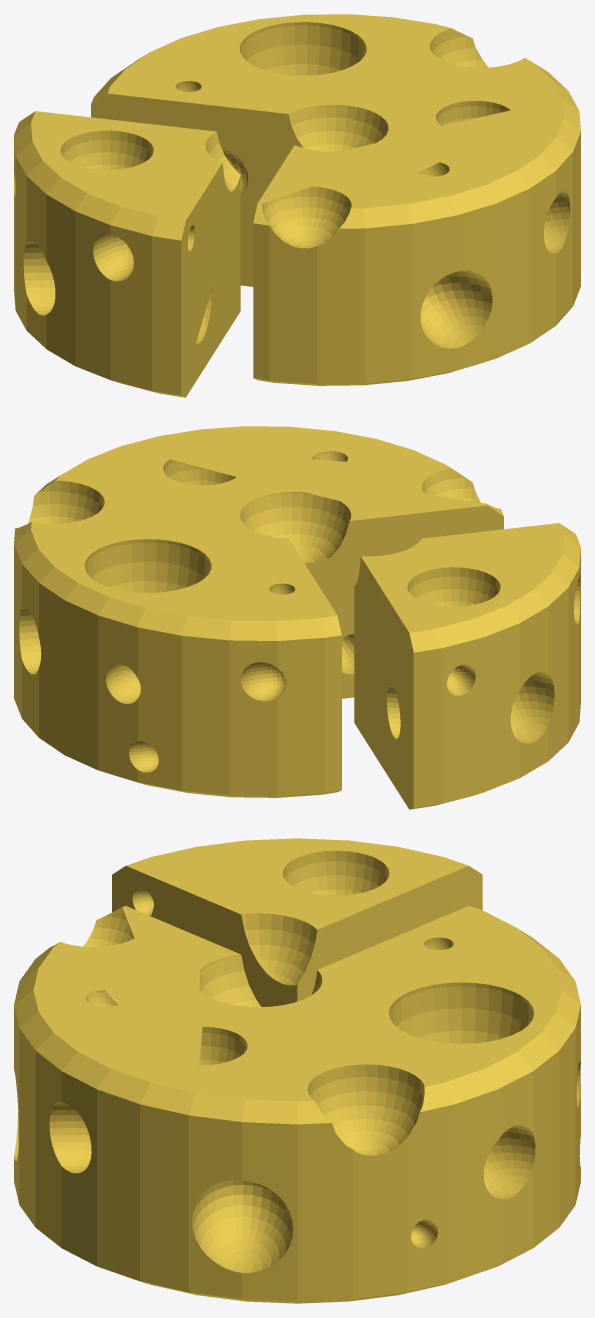
File: cheese.fbx
3 renders of one model, top to bottom at view 1: azimuth 30°, elevation 25°; view 2: azimuth 150°, elevation 25°; view 3: azimuth 270°, elevation 25°, orthographic. The views are drawn at different scales.
Parts seen in each view (by area): view 1: Cylinder.000, Cylinder.001; view 2: Cylinder.000, Cylinder.001; view 3: Cylinder.000, Cylinder.001.
Part boxes in pixels (bbox=[...]): Cylinder.000: bbox=[91, 14, 580, 385]; Cylinder.001: bbox=[14, 111, 240, 397]; Cylinder.000: bbox=[14, 426, 503, 797]; Cylinder.001: bbox=[354, 523, 580, 809]; Cylinder.000: bbox=[14, 906, 580, 1303]; Cylinder.001: bbox=[112, 838, 482, 1006].
Bounding box in the file's own units: 472 × 159 × 405.
